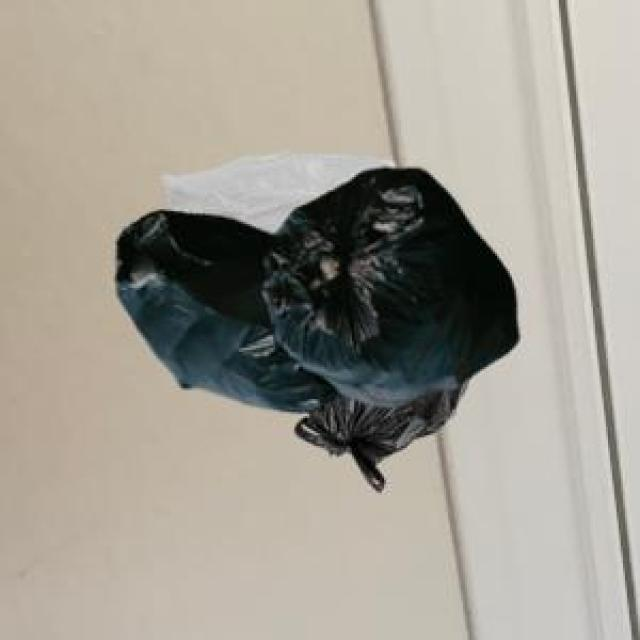miscellaneous trash: (113, 164, 514, 410), (290, 373, 464, 486)
